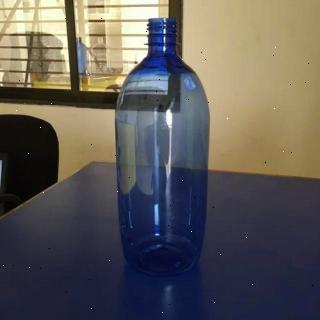Plastic-bottle: (112, 18, 217, 282)
